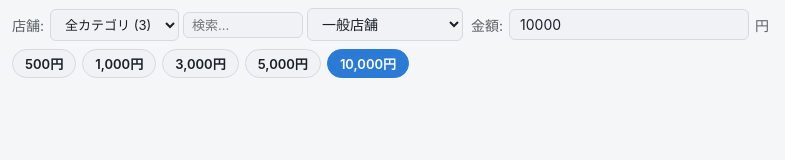
Test case: CalcStoreForm 金額プリセットチップ › プリセット click で金額 input が即設定される
The image size is (785, 160).
Check: the field labelled "金額: 円" holds "10000", box [509,9,749,40]
Click the button "500円": (44, 64) [12,49,76,78]
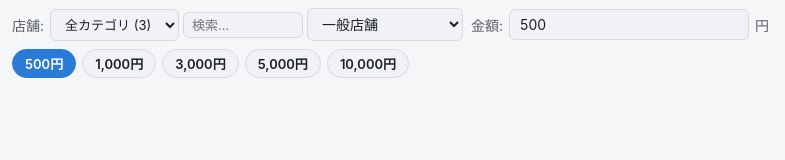
Check: the field labelled "金額: 円" holds "500", box [509,9,749,40]
Click the button "3,000円": (200, 64) [162,49,239,78]
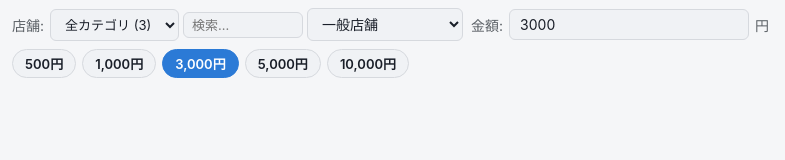
Check: the field labelled "金額: 円" holds "3000", box [509,9,749,40]
